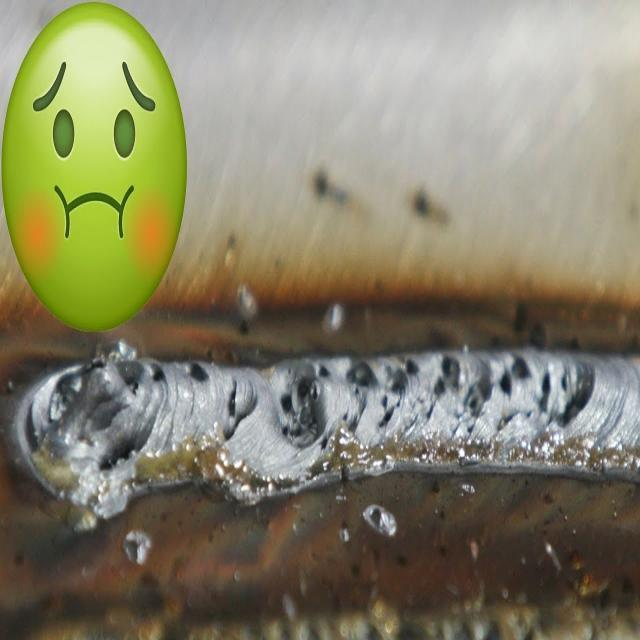Porosity: (426, 355, 534, 436), (342, 356, 420, 431), (274, 362, 336, 455), (46, 356, 112, 426), (534, 369, 572, 418), (212, 377, 239, 444), (96, 437, 140, 473), (186, 355, 212, 390), (149, 363, 170, 390), (122, 375, 143, 398)
